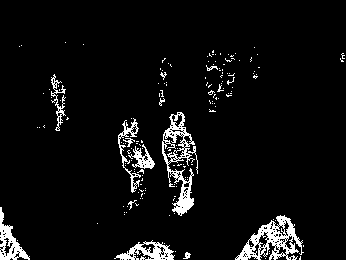person: (116, 118, 156, 214), (163, 110, 199, 216), (49, 74, 70, 133)
